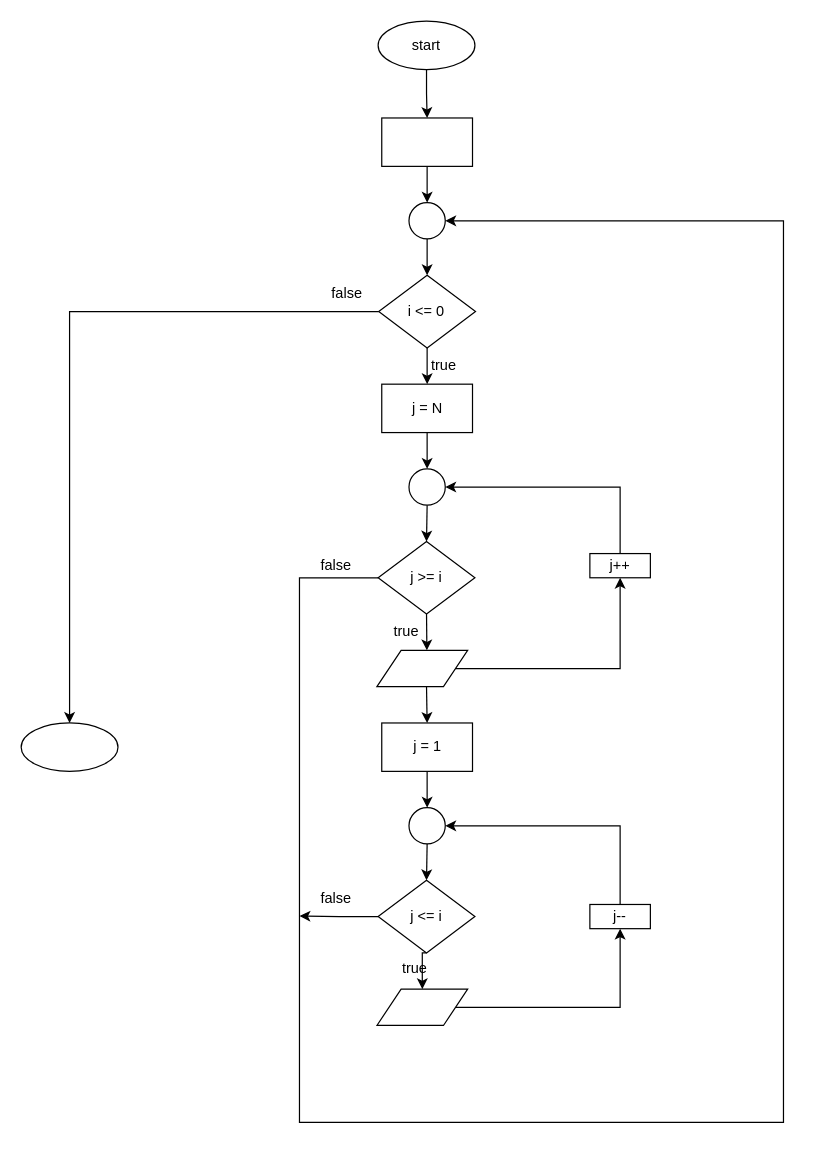
Some shapes in this 814 by 1153 pixel diagram are drawn without their labels. Each missing label, with the centre of its shape:
end: pixel 69 746
int N = 0 i = 0: pixel 427 141
print " ": pixel 422 668
print "*": pixel 422 1006
